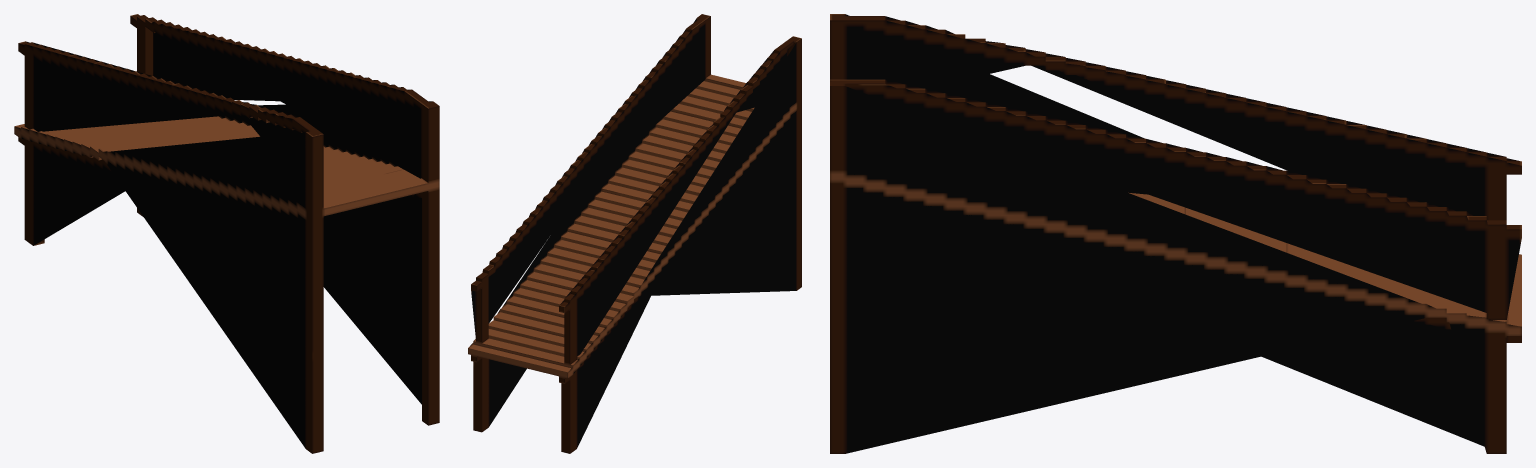
File: Escada.fbx
The picture shows the model from 3 angles, left to right: view 1: azimuth 30°, elevation 25°; view 2: azimuth 150°, elevation 25°; view 3: azimuth 270°, elevation 25°; orthographic projection. The views are drawn at different scales.
Parts seen in each view (by area): view 1: Escada; view 2: Escada; view 3: Escada.
Boxes of the visible parts, x1,y1,x2,y2 form: Escada: [14, 14, 439, 453]; Escada: [468, 14, 801, 453]; Escada: [830, 14, 1521, 453].
Size of the model in its own units: 340 by 810 by 1380.
